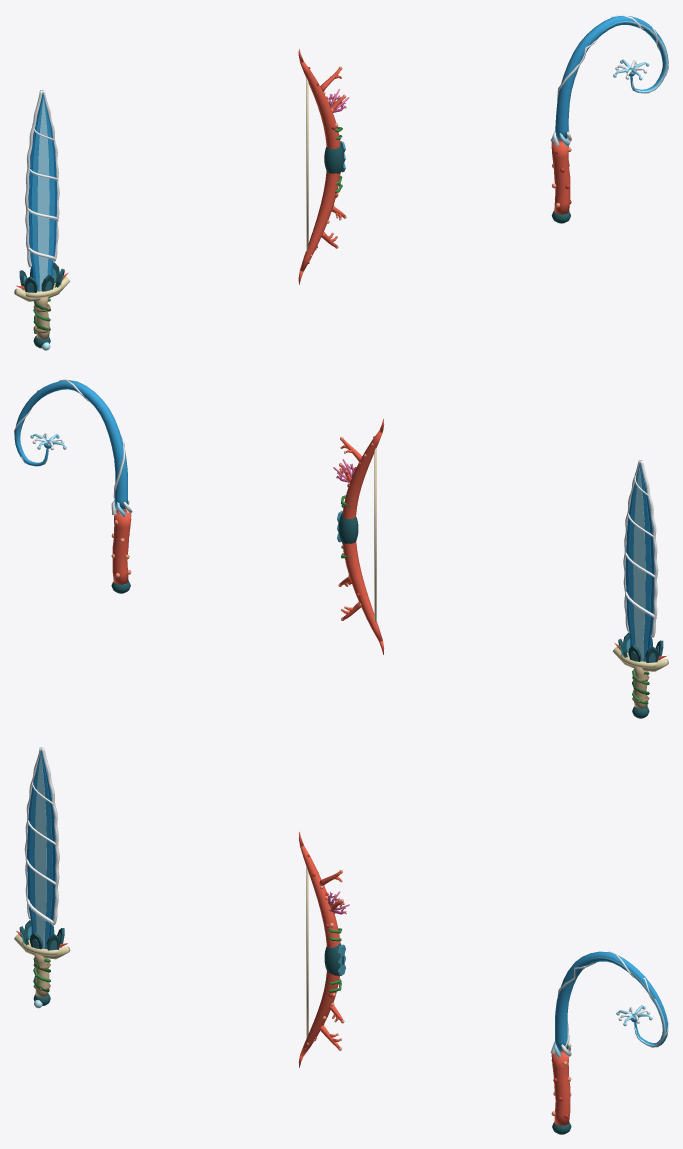
The model's file is equipements-corail.glb.
The picture shows the model from 3 angles, top to bottom: view 1: azimuth 30°, elevation 25°; view 2: azimuth 150°, elevation 25°; view 3: azimuth 330°, elevation 25°; orthographic projection.
Parts seen in each view (by area): view 1: laniere, arc, lame_bleu, lame_coeur, manche, lame_eau, ecume.001, corde; view 2: laniere, arc, lame_coeur, lame_bleu, manche, lame_eau, ecume.001, corde; view 3: laniere, arc, lame_coeur, lame_bleu, manche, lame_eau, ecume.
Boxes of the visible parts, bbox=[...] form: laniere: bbox=[555, 16, 668, 139]; arc: bbox=[300, 61, 340, 271]; lame_bleu: bbox=[31, 93, 54, 291]; lame_coeur: bbox=[37, 97, 49, 290]; manche: bbox=[551, 139, 570, 214]; lame_eau: bbox=[28, 92, 57, 279]; ecume.001: bbox=[25, 90, 42, 267]; corde: bbox=[306, 78, 308, 251]; laniere: bbox=[14, 380, 127, 509]; arc: bbox=[342, 431, 382, 641]; lame_coeur: bbox=[633, 467, 645, 661]; lame_bleu: bbox=[628, 463, 651, 661]; manche: bbox=[112, 509, 131, 584]; lame_eau: bbox=[625, 462, 654, 649]; ecume.001: bbox=[640, 460, 658, 637]; corde: bbox=[374, 448, 376, 621]; laniere: bbox=[555, 951, 668, 1050]; arc: bbox=[300, 845, 340, 1056]; lame_coeur: bbox=[34, 754, 46, 948]; lame_bleu: bbox=[29, 751, 52, 948]; manche: bbox=[551, 1051, 570, 1125]; lame_eau: bbox=[27, 749, 55, 936]; ecume: bbox=[41, 748, 59, 925].
Size of the model in its own units: 5.03 by 1.9 by 0.2782.
